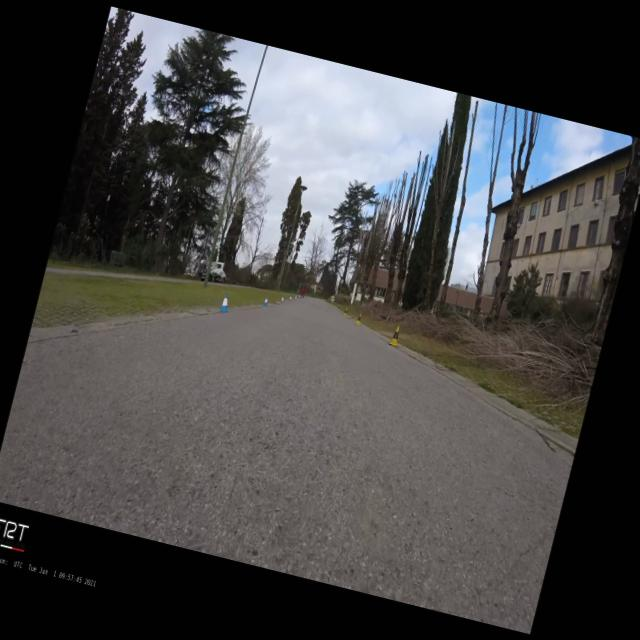blue_cone: (218, 292, 232, 314), (263, 296, 268, 306), (280, 296, 284, 302)
yellow_cone: (388, 324, 402, 346), (355, 312, 362, 324), (343, 308, 348, 316), (337, 305, 339, 309)
